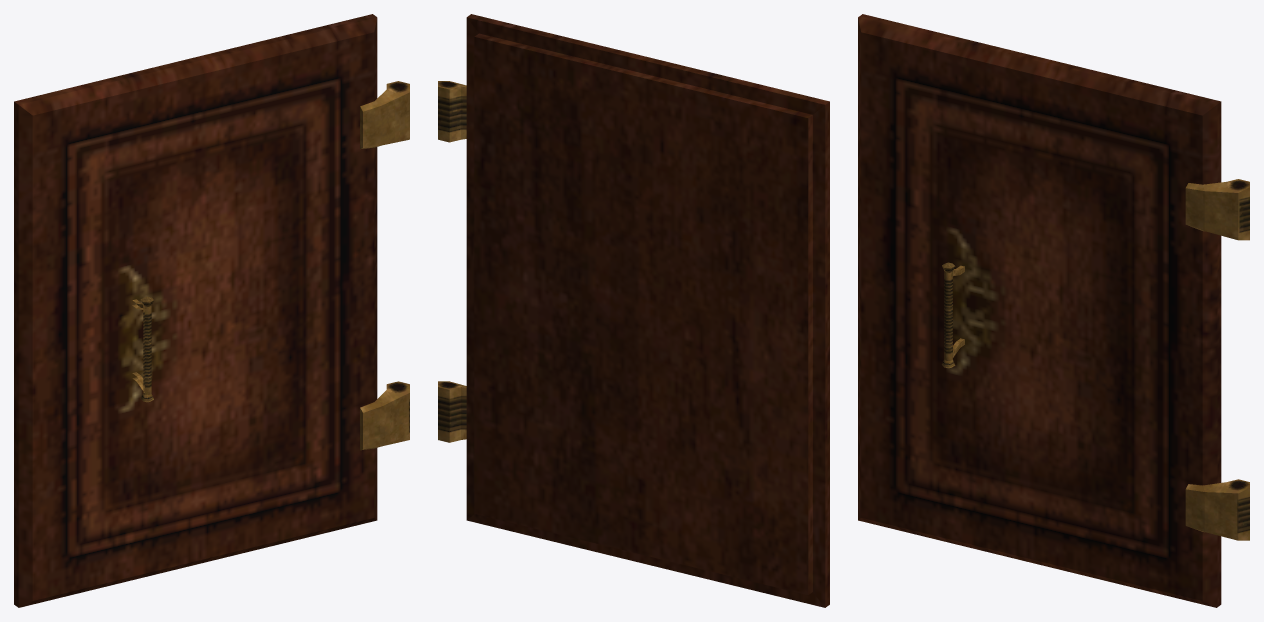
The model's file is work_desk02_door.dae.
3 views of the same model, side by side, from view 1: azimuth 30°, elevation 25°; view 2: azimuth 150°, elevation 25°; view 3: azimuth 330°, elevation 25° (orthographic).
Visible parts, largest first — view 1: polySurface11; view 2: polySurface11; view 3: polySurface11.
Boxes of the visible parts, bbox=[...] form: polySurface11: bbox=[14, 14, 409, 607]; polySurface11: bbox=[438, 14, 829, 607]; polySurface11: bbox=[858, 14, 1249, 607].
Bounding box in the file's own units: 0.5794 × 0.7114 × 0.0812.
1 material, 1 textured.
